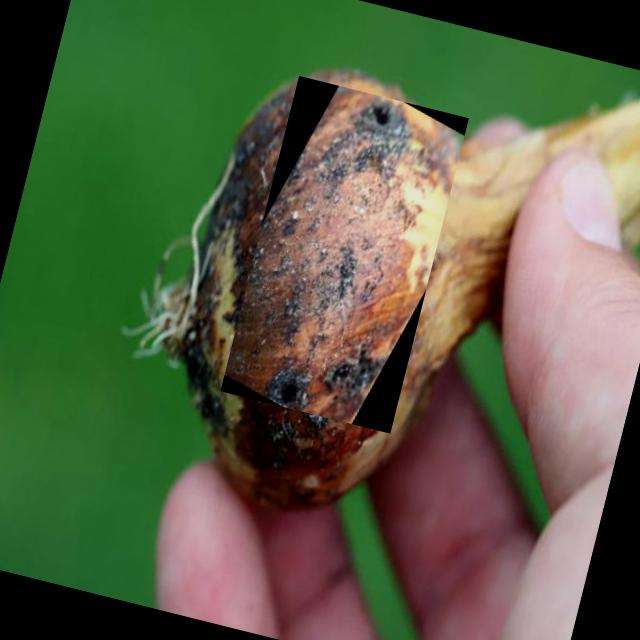mould: (220, 76, 468, 433)
